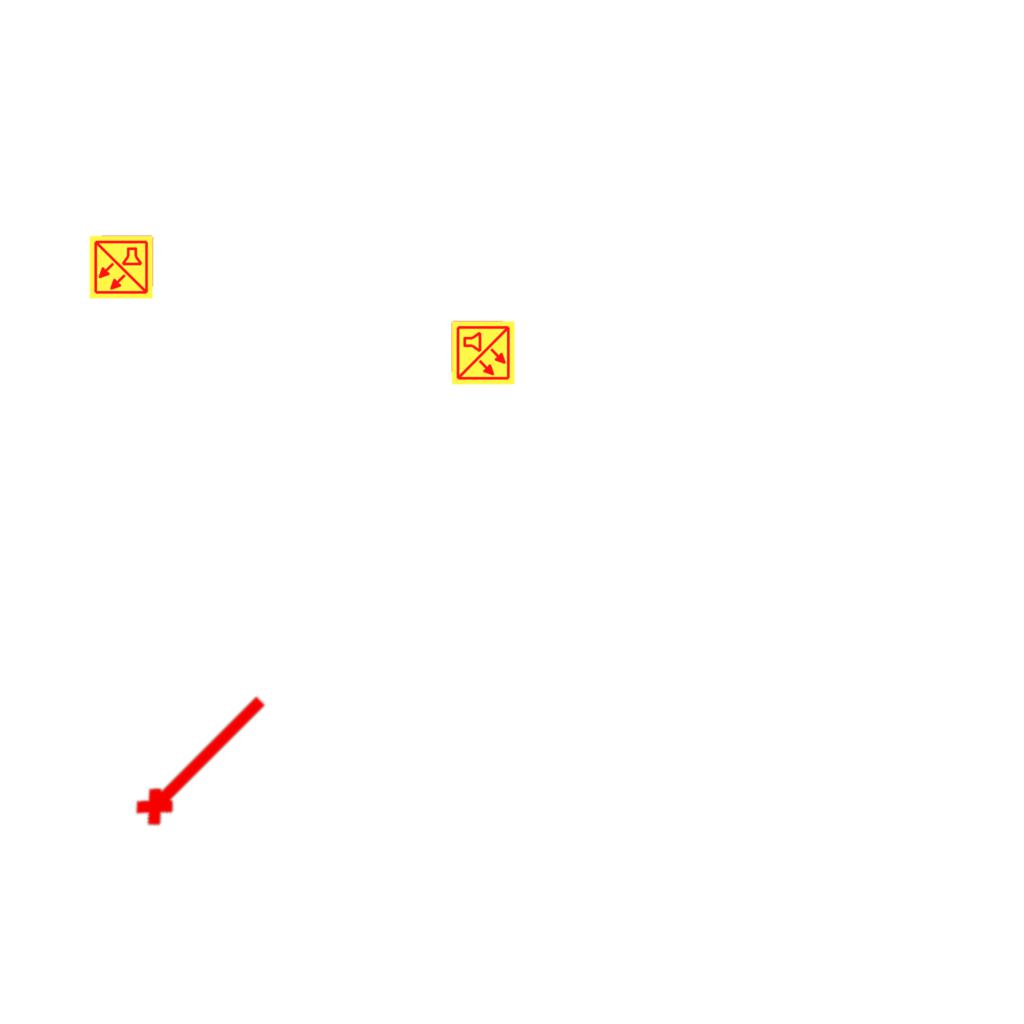ASR_Ansaugoeffnung: (122, 678, 280, 836)
OKW_Multisensormelder_(Kombination_optischer_Rauch-Kahlenmonoxid_Waerme-Melder): (450, 320, 516, 386), (88, 234, 154, 300)
